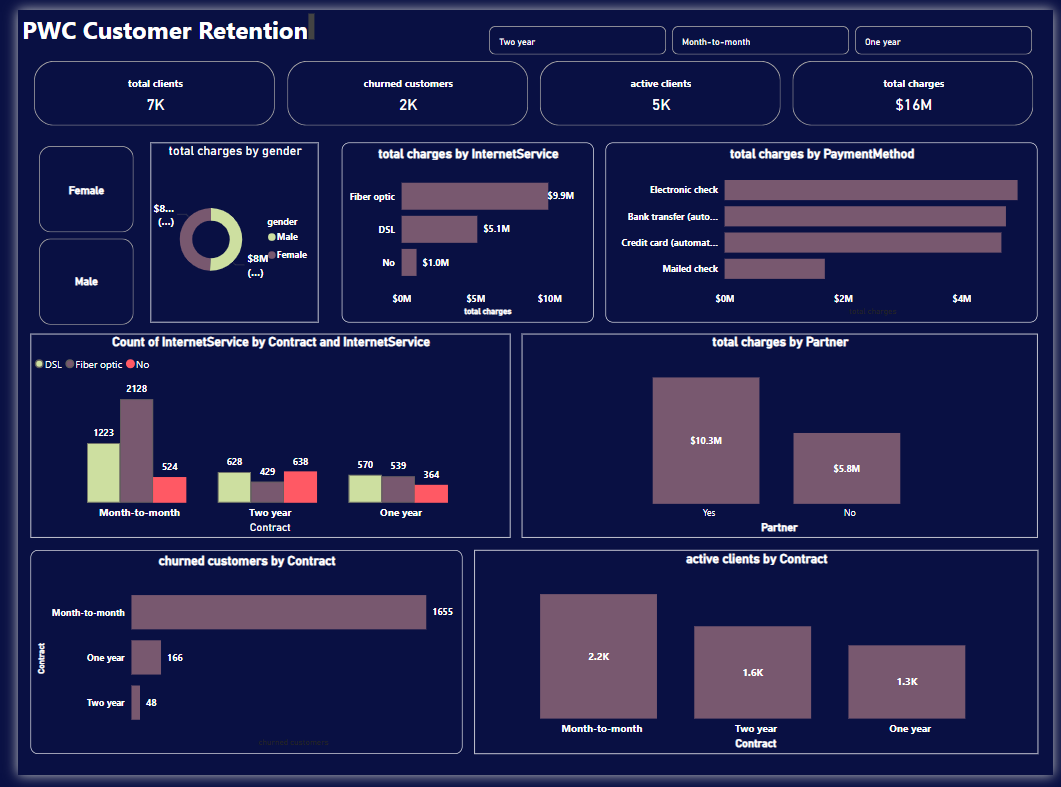

The dashboard page shown, as its layout file describes it:
{"tool":"powerbi","page":{"name":"Page 2","canvas":[1380,1020],"ordinal":0},"visuals":[{"type":"cardVisual","fields":{"Data":["measure Table (2).total clients","measure Table (2).churned customers","measure Table (2).active clients","measure Table (2).total charges"]},"box":[16,64,1344,96],"z":0},{"type":"textbox","box":[0,0,400,48],"z":1000},{"type":"advancedSlicerVisual","fields":{"Values":["Churn.Contract"]},"box":[624,16,736,48],"z":2000},{"type":"donutChart","fields":{"Y":["measure Table (2).total charges"],"Category":["Churn.gender"]},"box":[176,176,224,240],"z":3000},{"type":"barChart","fields":{"Category":["Churn.InternetService"],"Y":["measure Table (2).total charges"]},"box":[432,176,336,240],"z":4000},{"type":"barChart","fields":{"Category":["Churn.PaymentMethod"],"Y":["measure Table (2).total charges"]},"box":[784,176,576,240],"z":5000},{"type":"clusteredColumnChart","fields":{"Category":["Churn.Contract"],"Y":["CountNonNull(Churn.InternetService)"],"Series":["Churn.InternetService"]},"box":[16,432,640,272],"z":6000},{"type":"columnChart","fields":{"Y":["measure Table (2).total charges"],"Category":["Churn.Partner"]},"box":[672,432,688,272],"z":7000},{"type":"barChart","fields":{"Y":["measure Table (2).churned customers"],"Category":["Churn.Contract"]},"box":[16,720,576,272],"z":8000},{"type":"columnChart","fields":{"Y":["measure Table (2).active clients"],"Category":["Churn.Contract"]},"box":[608,720,752,272],"z":9000},{"type":"advancedSlicerVisual","fields":{"Values":["Churn.gender"]},"box":[24,176,136,248],"z":10000}]}

Visuals, with their boxes in screenshot pixels (x1, y1, x2, y2), scaled from the page's 1380x1020 canvas onto the 1061x787 screenshot:
cardVisual - measure Table (2).total clients x measure Table (2).churned customers: bbox(12, 49, 1046, 123)
textbox: bbox(0, 0, 308, 37)
advancedSlicerVisual - Churn.Contract: bbox(480, 12, 1046, 49)
donutChart - measure Table (2).total charges x Churn.gender: bbox(135, 136, 308, 321)
barChart - Churn.InternetService x measure Table (2).total charges: bbox(332, 136, 590, 321)
barChart - Churn.PaymentMethod x measure Table (2).total charges: bbox(603, 136, 1046, 321)
clusteredColumnChart - Churn.Contract x CountNonNull(Churn.InternetService): bbox(12, 333, 504, 543)
columnChart - measure Table (2).total charges x Churn.Partner: bbox(517, 333, 1046, 543)
barChart - measure Table (2).churned customers x Churn.Contract: bbox(12, 556, 455, 765)
columnChart - measure Table (2).active clients x Churn.Contract: bbox(467, 556, 1046, 765)
advancedSlicerVisual - Churn.gender: bbox(18, 136, 123, 327)
